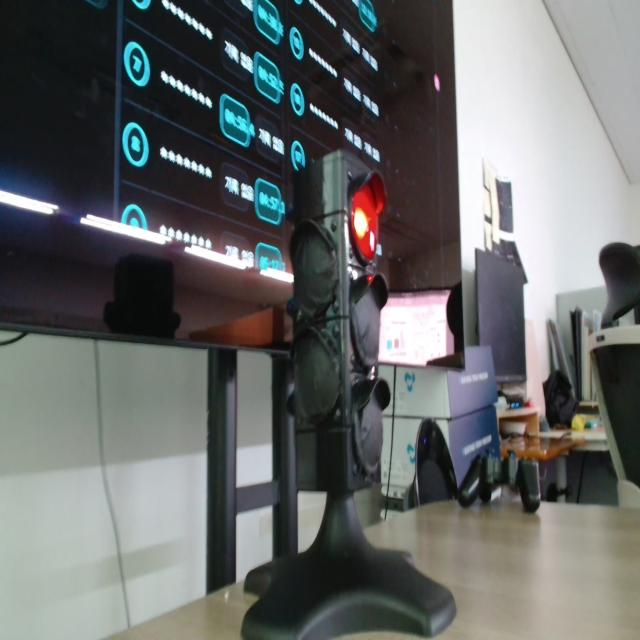red_light: (352, 174, 385, 262)
